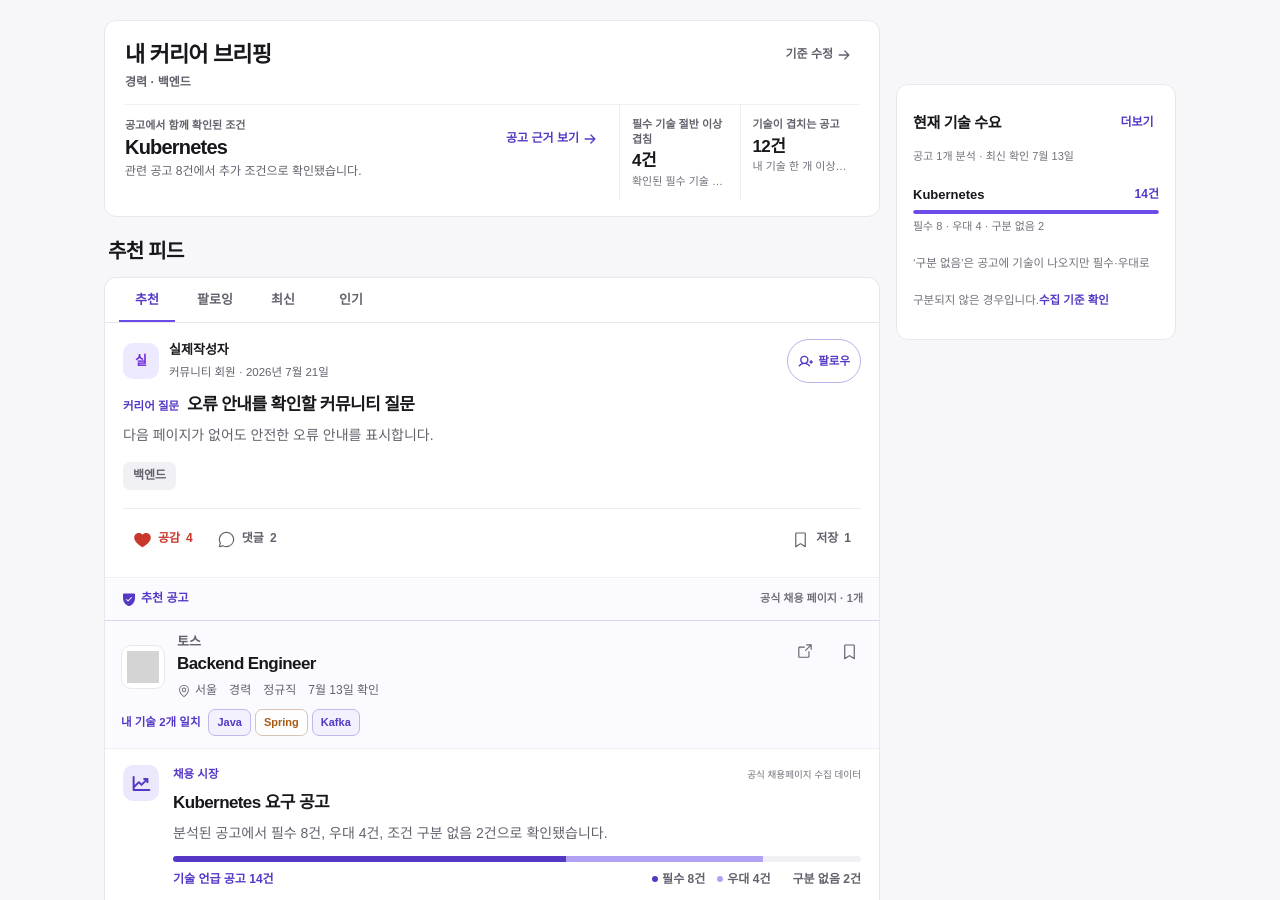
Test: HomeFeed › shows the safe permission guidance on a first-page reaction failure
Click the button with aria-label "공감 취소" at (163, 540), box [123,518,203,562]
(page scrolled)
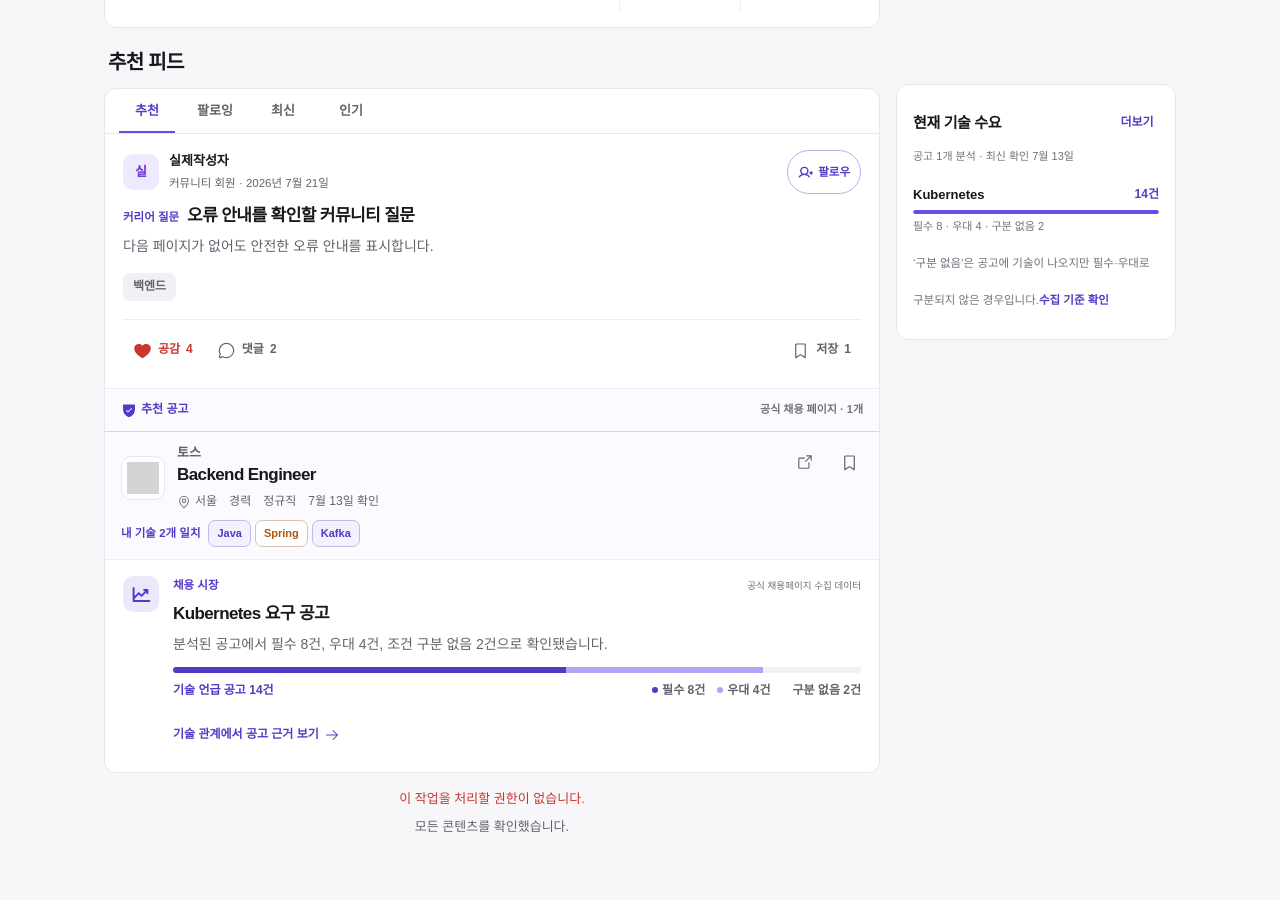
Result: the message "이 작업을 처리할 권한이 없습니다." is shown at [399,789,585,809]
